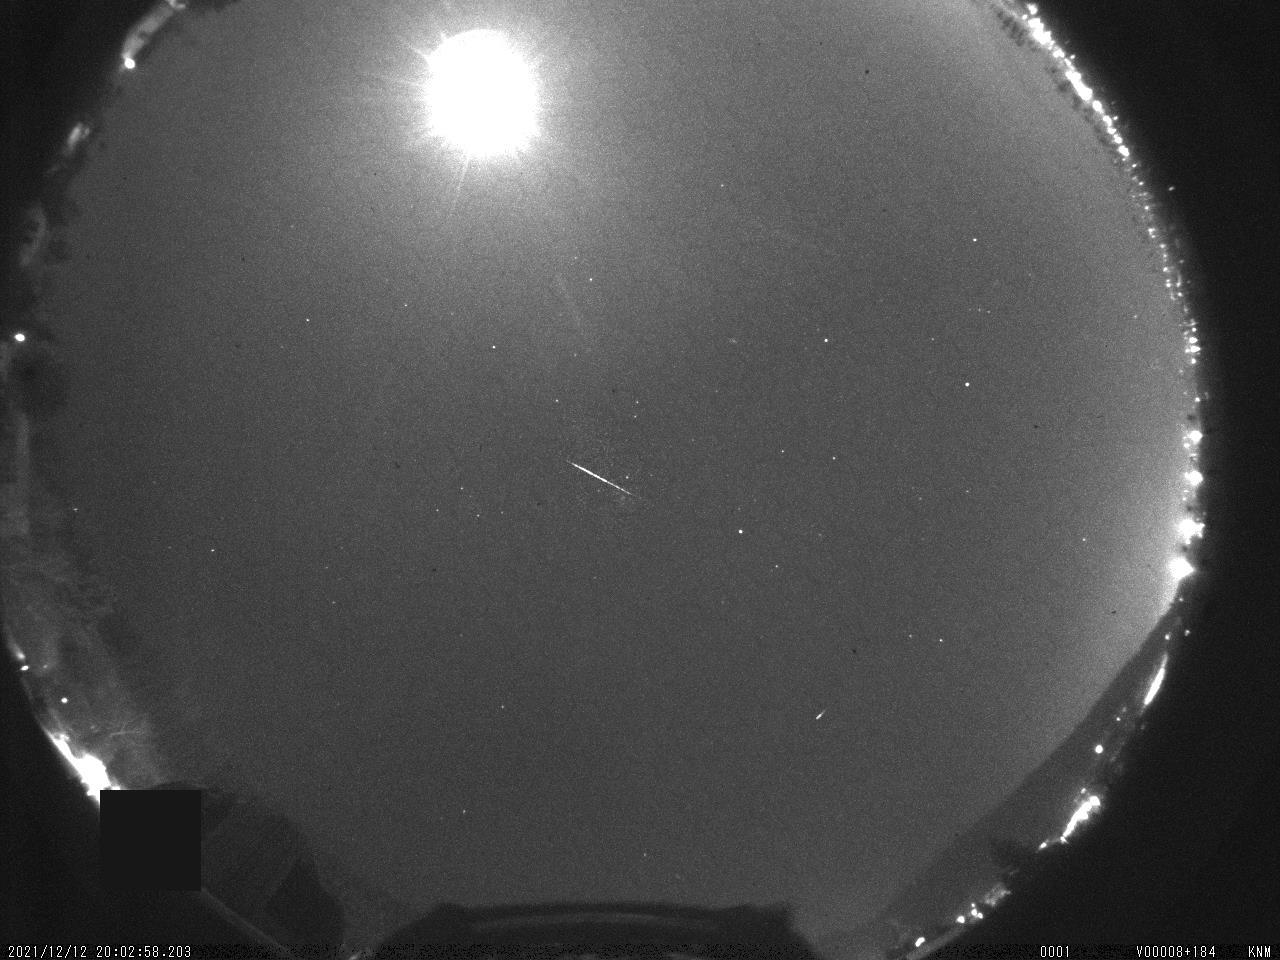meteor: (795, 702, 842, 728)
